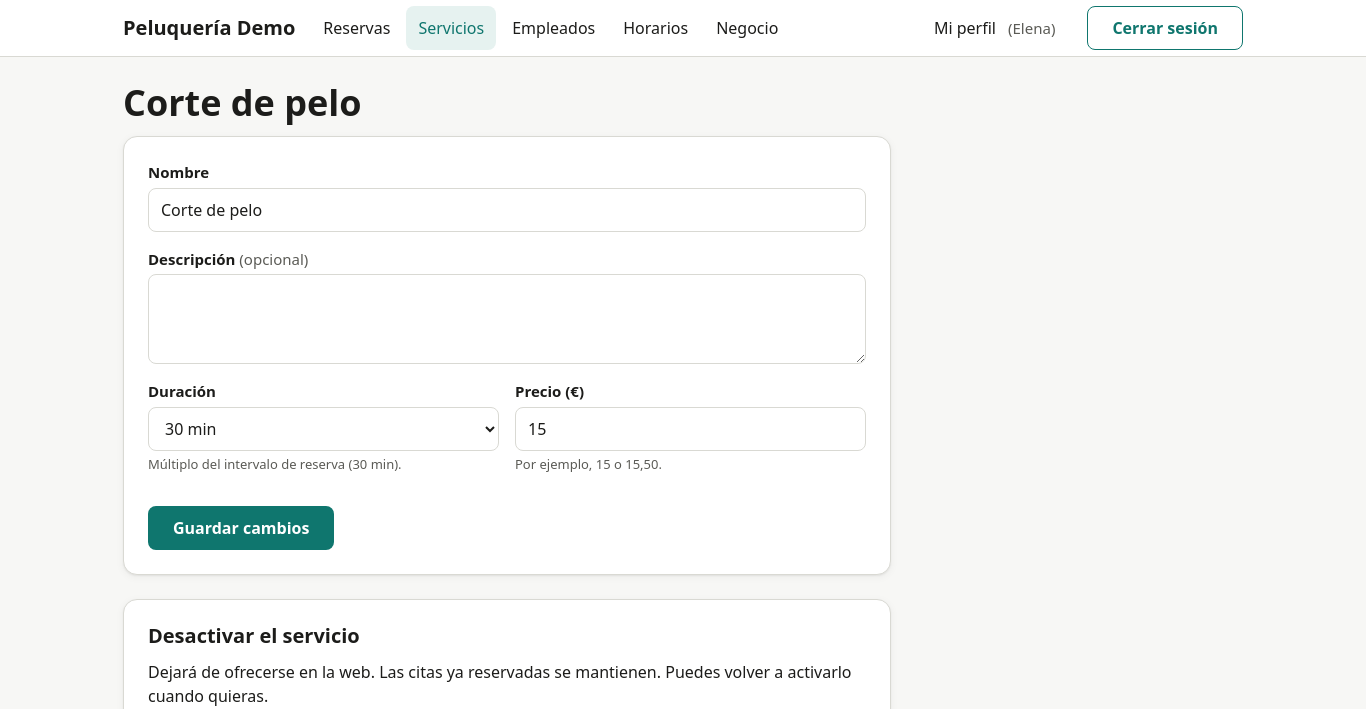
Test: servicios (CU-016) › un nombre repetido (409) sale debajo del nombre
Click the button "Guardar cambios" at (241, 528), box [148,506,334,550]
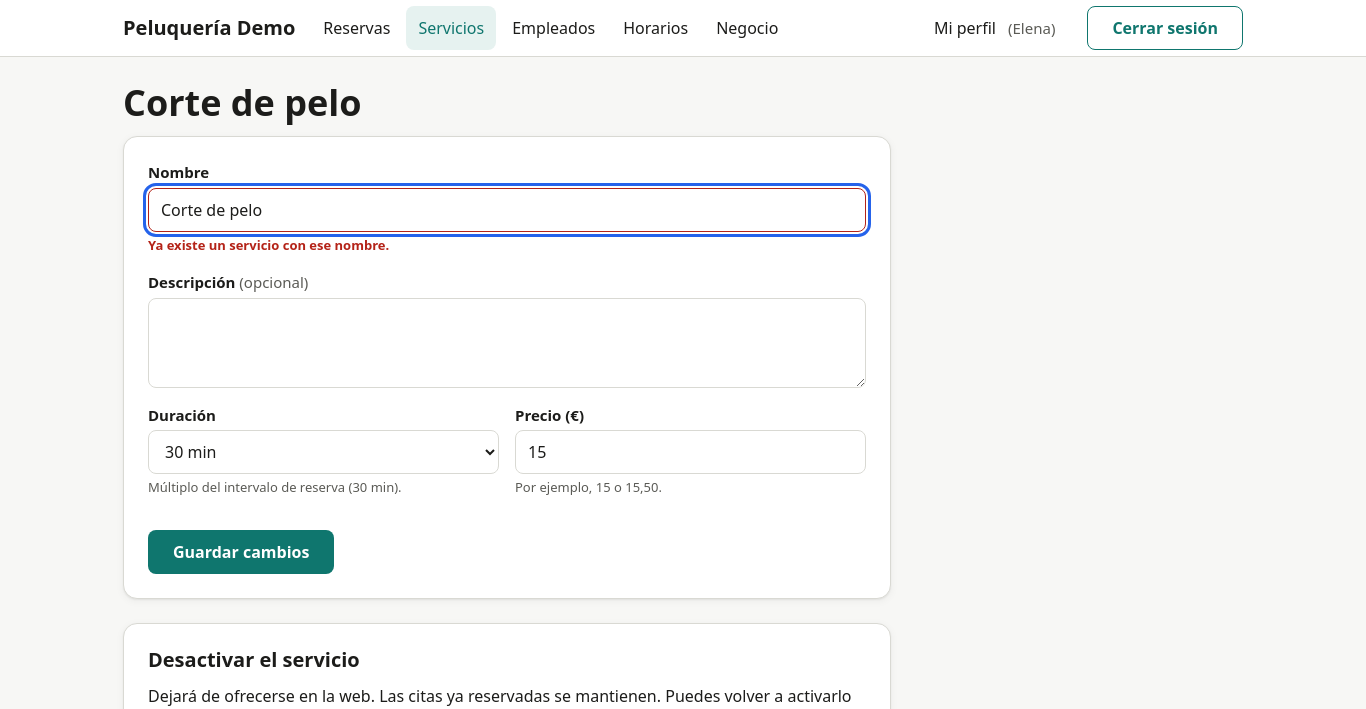
Result: the text "Ya existe un servicio con ese nombre." is shown at [148,236,389,254]
